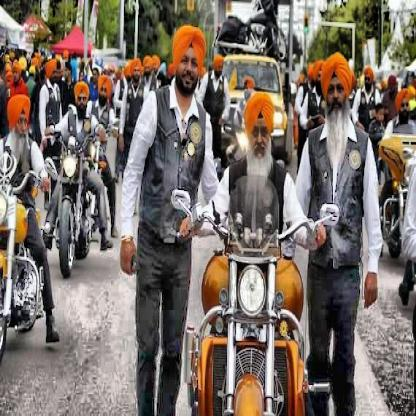not_wear: (174, 26, 206, 98), (247, 88, 273, 168), (321, 52, 349, 117), (13, 96, 28, 140), (398, 92, 412, 126), (99, 72, 110, 106), (76, 82, 88, 113), (130, 60, 142, 86)
